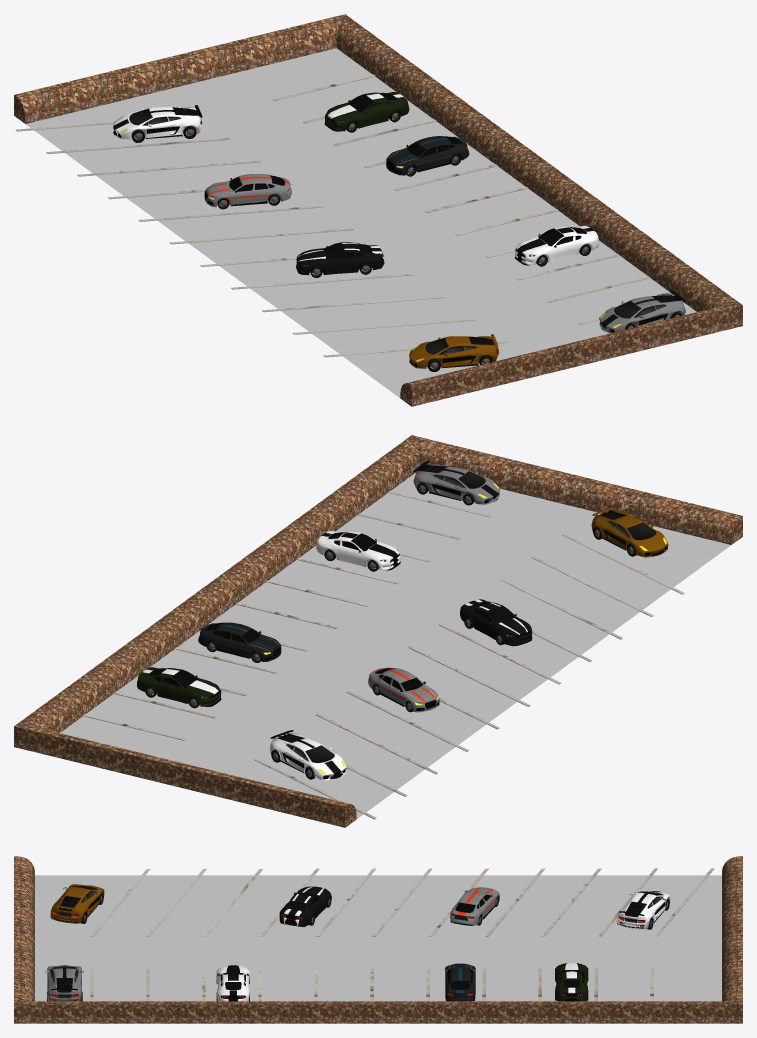
File: car par king.fbx
3 renders of one model, top to bottom at view 1: azimuth 30°, elevation 25°; view 2: azimuth 150°, elevation 25°; view 3: azimuth 270°, elevation 25°, orthographic. The views are drawn at different scales.
Visible parts, largest first — view 1: Cube.004; view 2: Cube.004; view 3: Cube.004.
Boxes of the visible parts, left/top/right/bottom form: Cube.004: left=14, top=14, right=742, bottom=406; Cube.004: left=14, top=435, right=742, bottom=827; Cube.004: left=14, top=856, right=742, bottom=1023.
Size of the model in its own units: 3477 by 230 by 6941.
